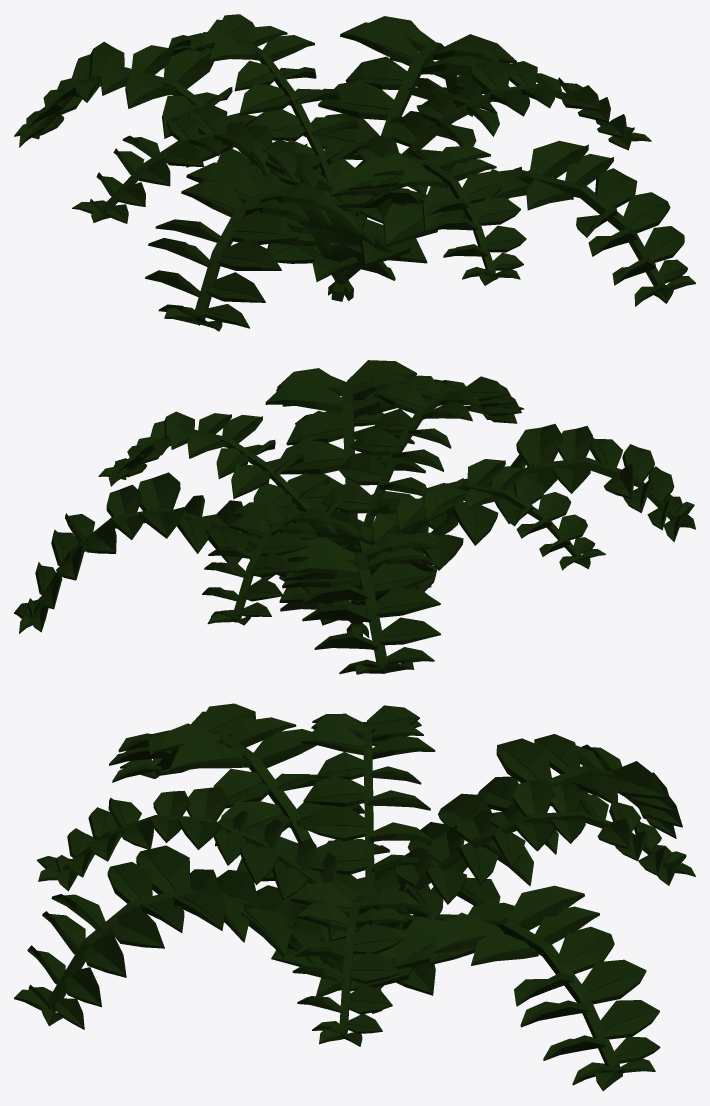
File: veg_01.fbx
The picture shows the model from 3 angles, top to bottom: view 1: azimuth 30°, elevation 25°; view 2: azimuth 150°, elevation 25°; view 3: azimuth 270°, elevation 25°; orthographic projection. The views are drawn at different scales.
Visible parts, largest first — view 1: veg_01; view 2: veg_01; view 3: veg_01.
Boxes of the visible parts, x1,y1,x2,y2 form: veg_01: [14, 14, 695, 331]; veg_01: [14, 360, 695, 674]; veg_01: [14, 703, 695, 1090].
Size of the model in its own units: 5.08 by 1.81 by 5.23.
